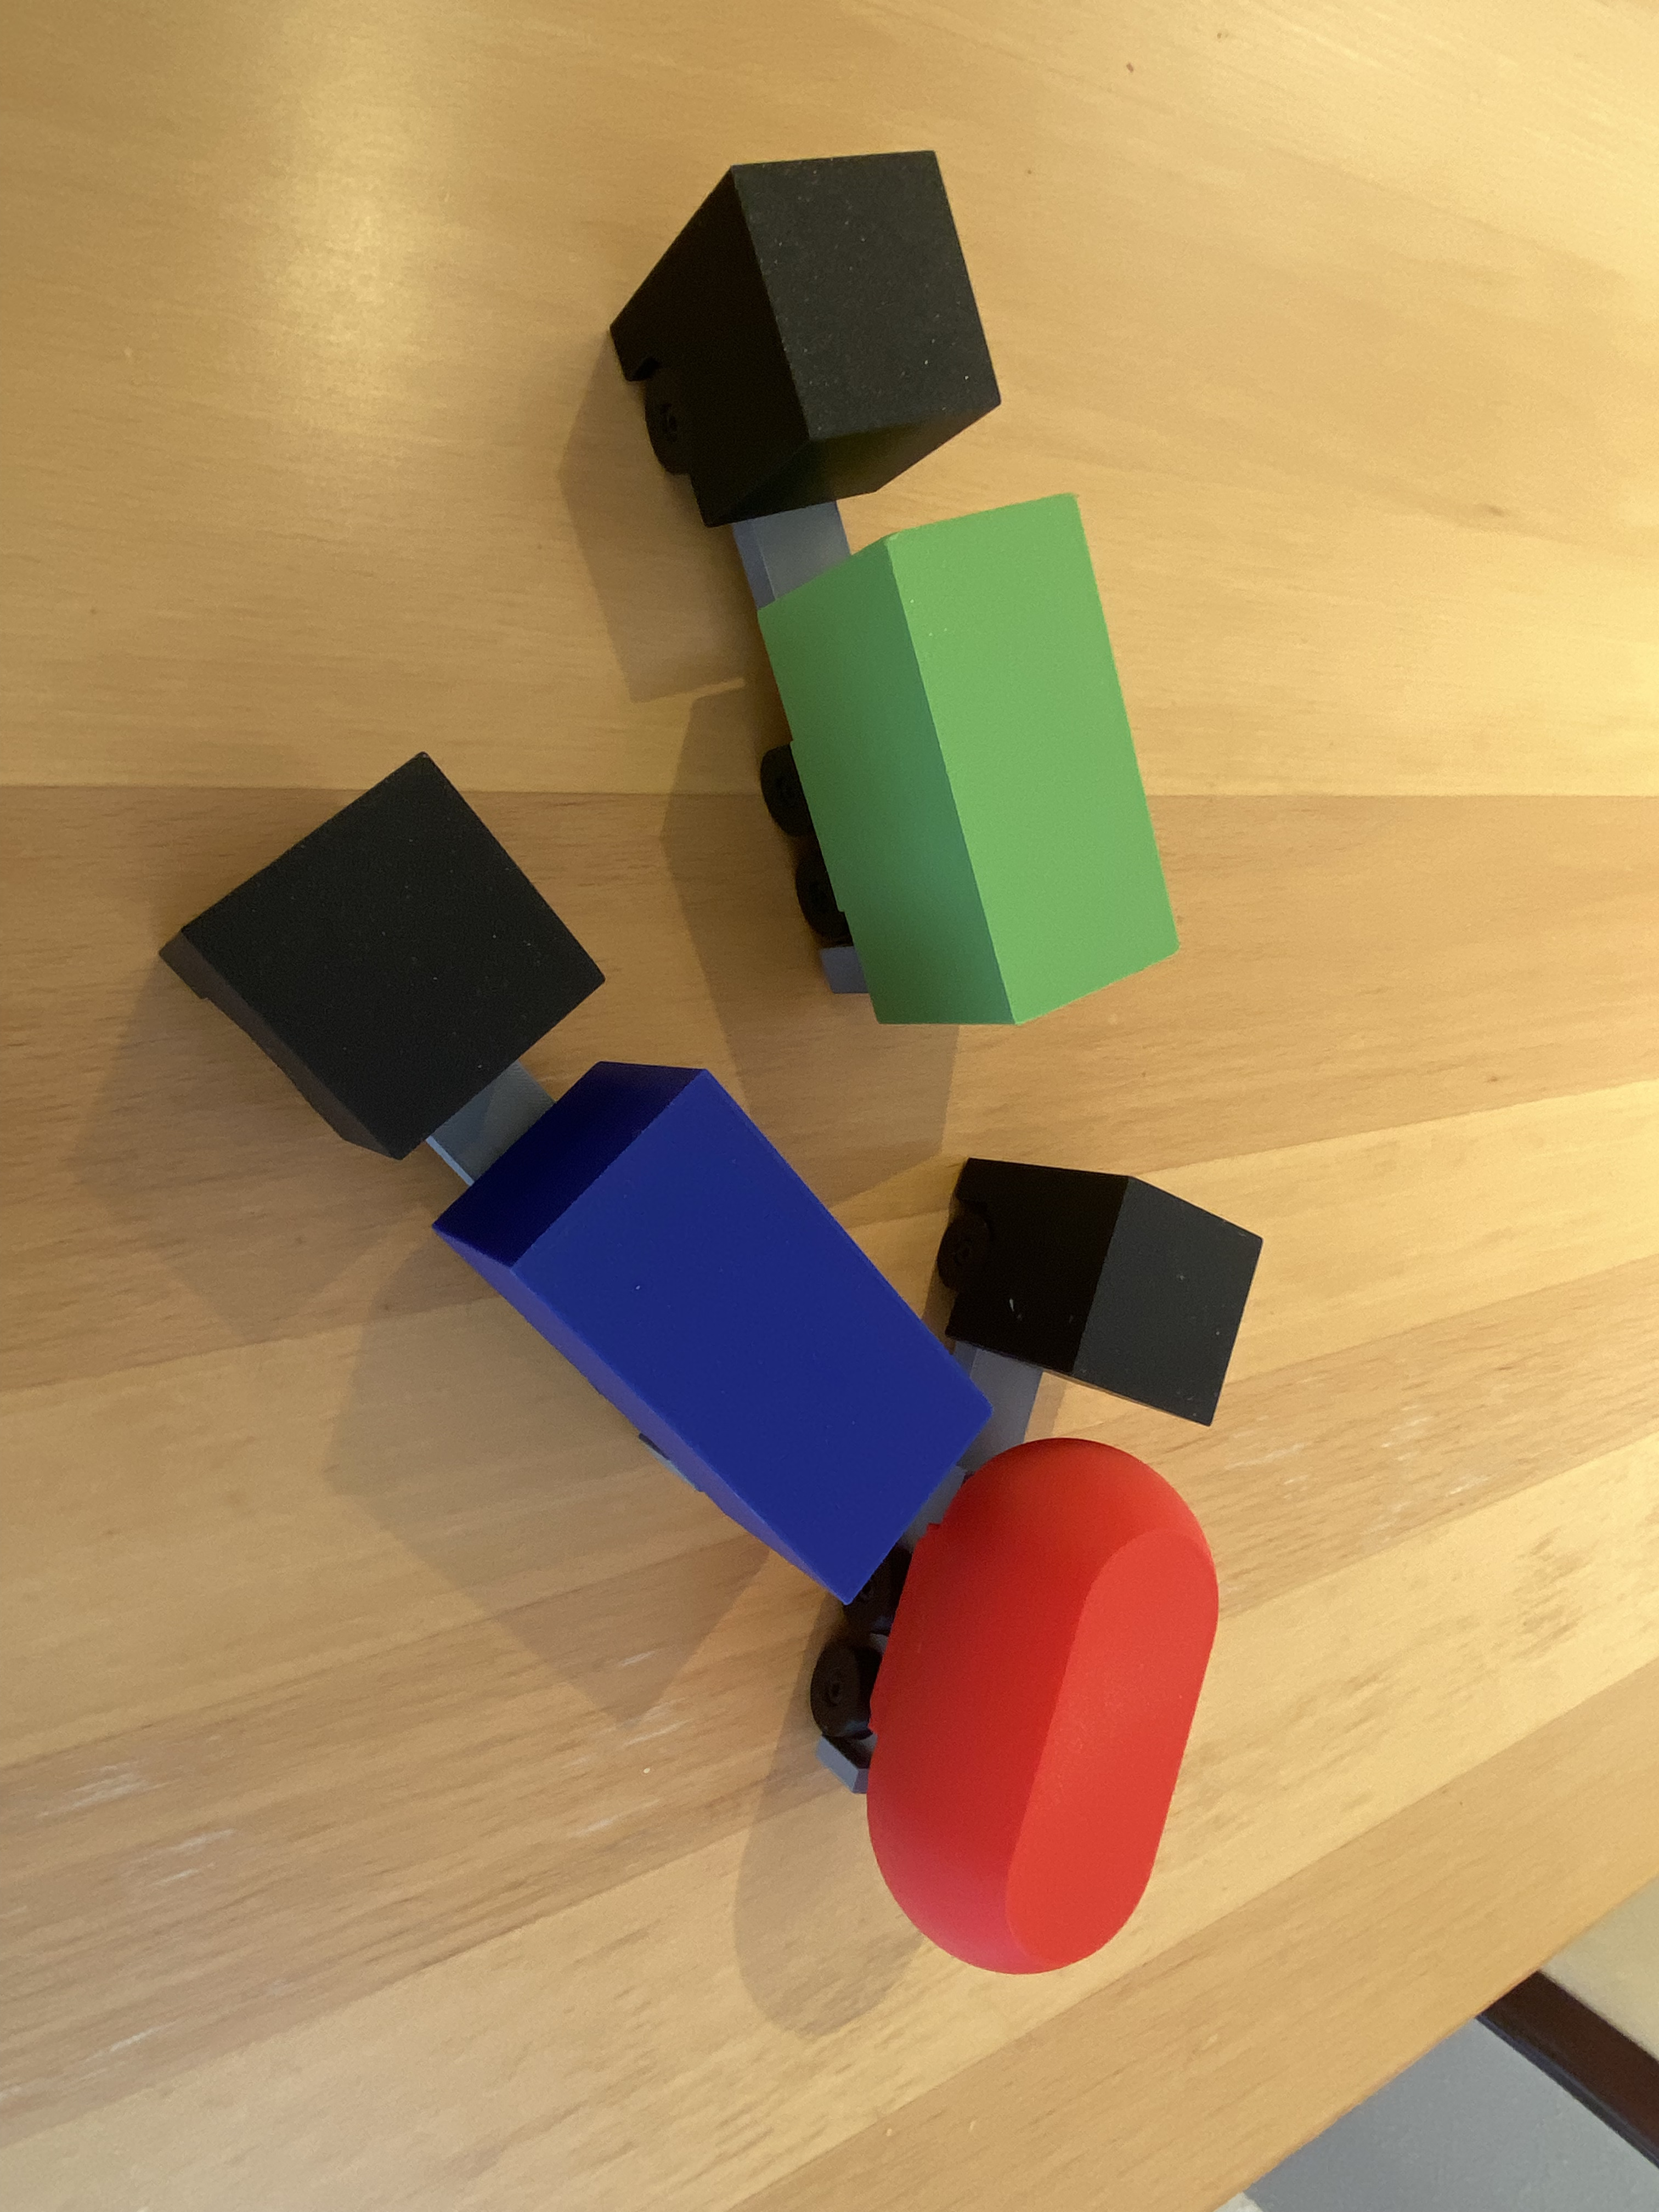blue_truck: (124, 1005, 1066, 1359)
green_truck: (430, 355, 1351, 812)
red_truck: (859, 1157, 1230, 1987)
